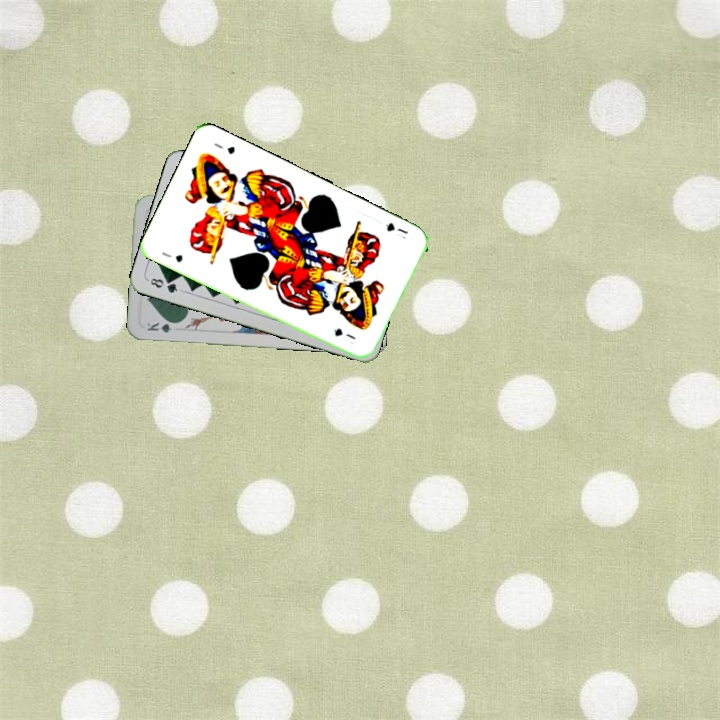G8: (144, 274, 184, 296)
GK: (143, 318, 182, 335)
GU: (381, 218, 410, 237), (158, 248, 185, 265)
